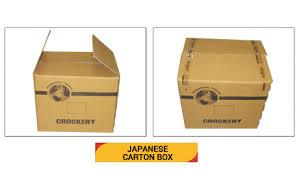Cardboard: (17, 23, 299, 135)
